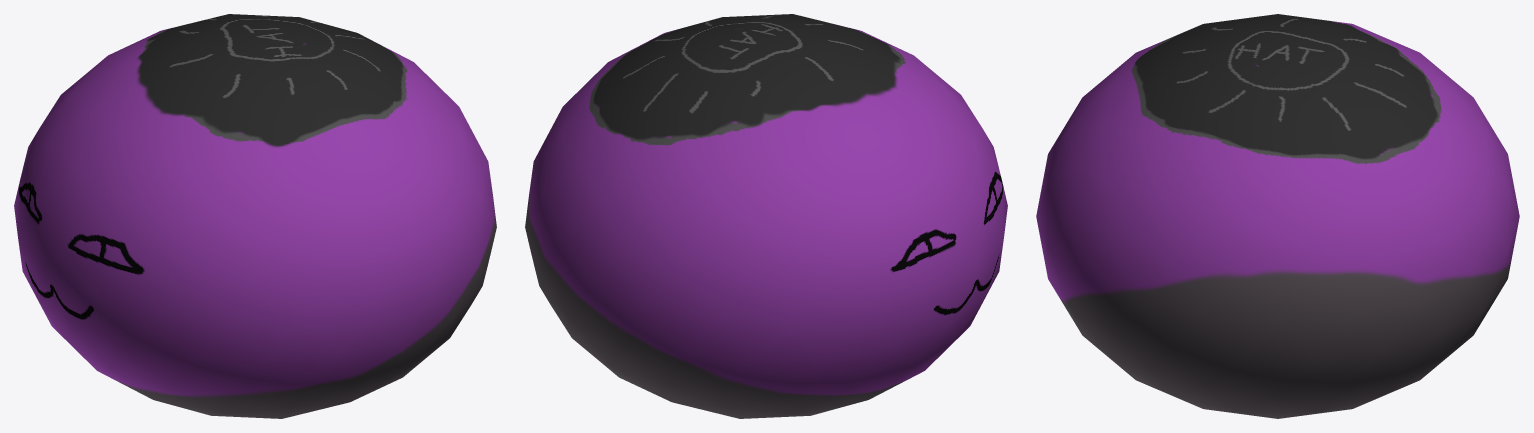
Rendered from Razel.glb.
3 renders of one model, left to right at view 1: azimuth 30°, elevation 25°; view 2: azimuth 150°, elevation 25°; view 3: azimuth 270°, elevation 25°, orthographic.
Parts seen in each view (by area): view 1: Icosphere; view 2: Icosphere; view 3: Icosphere.
Part boxes in pixels (x1=…): Icosphere: x1=14, y1=14, x2=496, y2=418; Icosphere: x1=525, y1=14, x2=1007, y2=418; Icosphere: x1=1036, y1=14, x2=1519, y2=418.
Bounding box in the file's own units: 1 × 0.8 × 1.
Materials: 1 (1 with a texture image).
